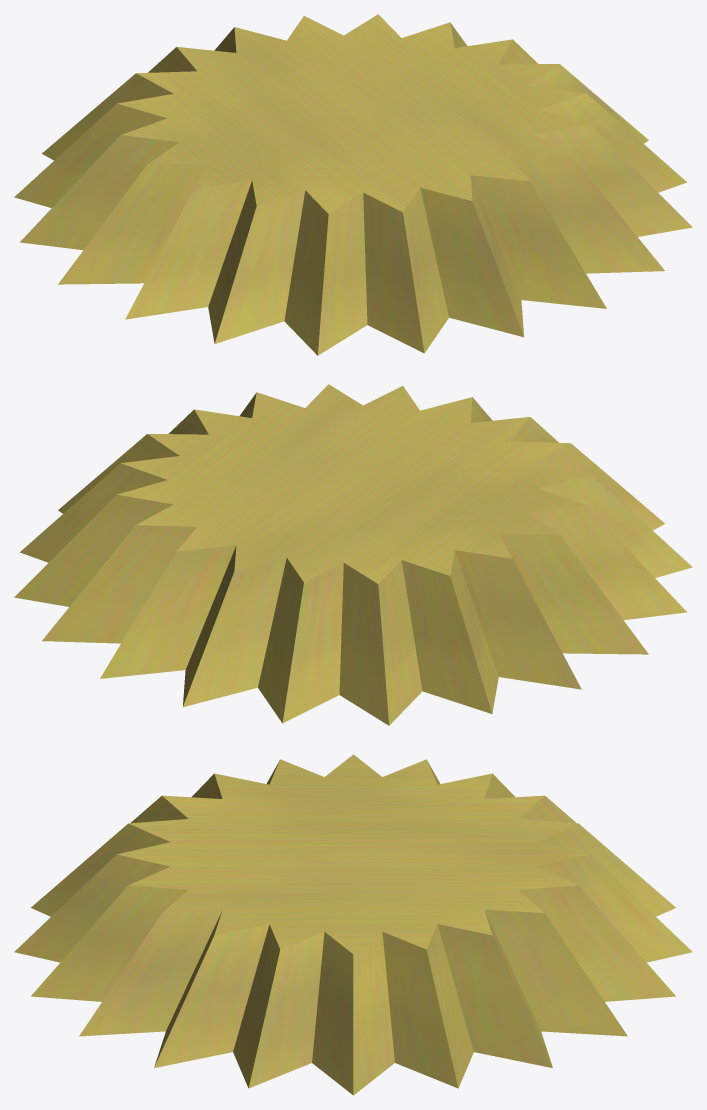
Rendered from ClockStraightBevel020.fbx.
3 renders of one model, top to bottom at view 1: azimuth 30°, elevation 25°; view 2: azimuth 150°, elevation 25°; view 3: azimuth 270°, elevation 25°, orthographic.
Visible parts, largest first — view 1: ClockStraightBevel020; view 2: ClockStraightBevel020; view 3: ClockStraightBevel020.
Part boxes in pixels (bbox=[...]): ClockStraightBevel020: bbox=[14, 14, 692, 355]; ClockStraightBevel020: bbox=[14, 384, 692, 725]; ClockStraightBevel020: bbox=[14, 754, 692, 1095].
Size of the model in its own units: 124 by 19.69 by 124.
